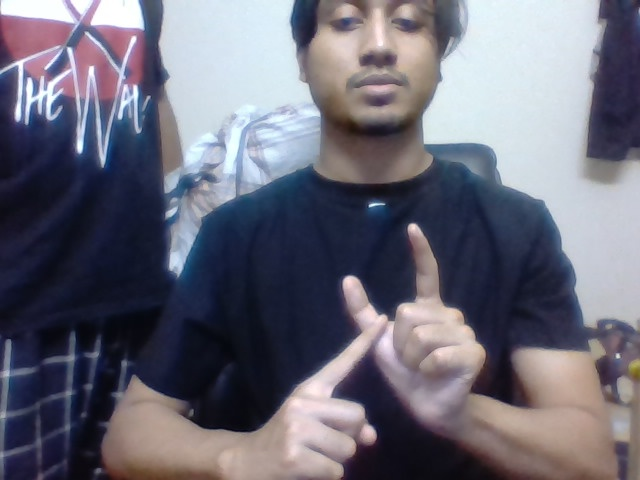Y: (321, 210, 450, 392)
